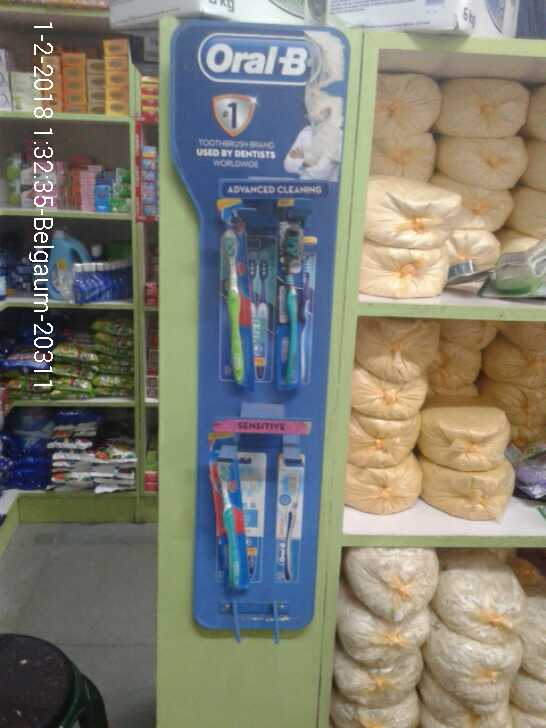oralb: (207, 218, 256, 387), (207, 455, 262, 590), (276, 223, 311, 393)
